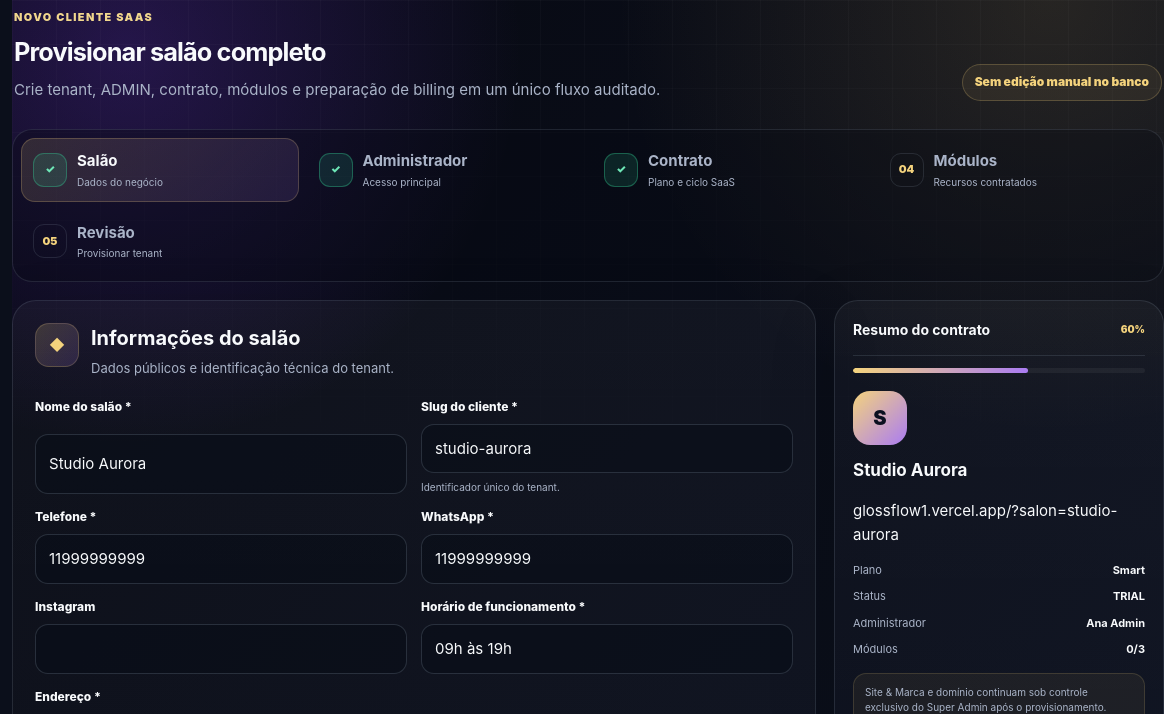
Test: SaasProvisioningWizard › exige ao menos um módulo contratado antes da revisão
The width and height of the screenshot is (1164, 714).
Click the button named "MódulosRecursos contratados" at (906, 170), box [878,138,1155,202]
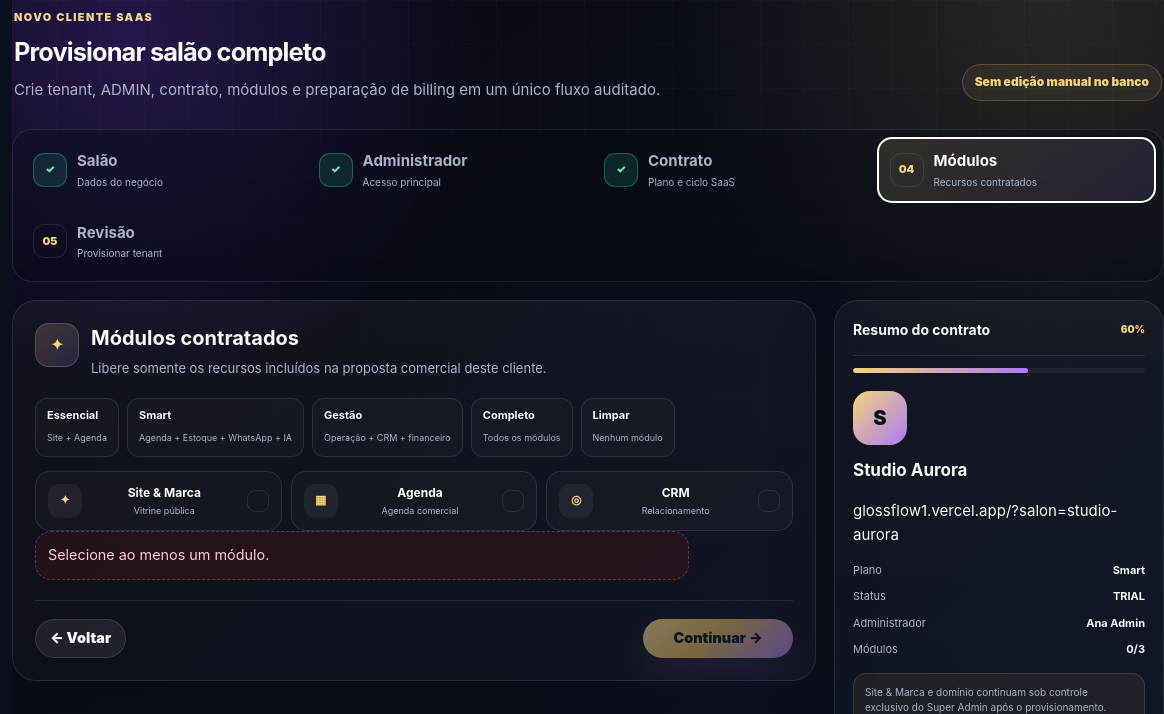
Expected: the text "Selecione ao menos um módulo." is shown, [35,531,689,580]
Expected: the button "Continuar →" is disabled, [643,619,793,658]
Click the button named "Site & MarcaVitrine pública" at (158, 501), box [35,471,282,531]
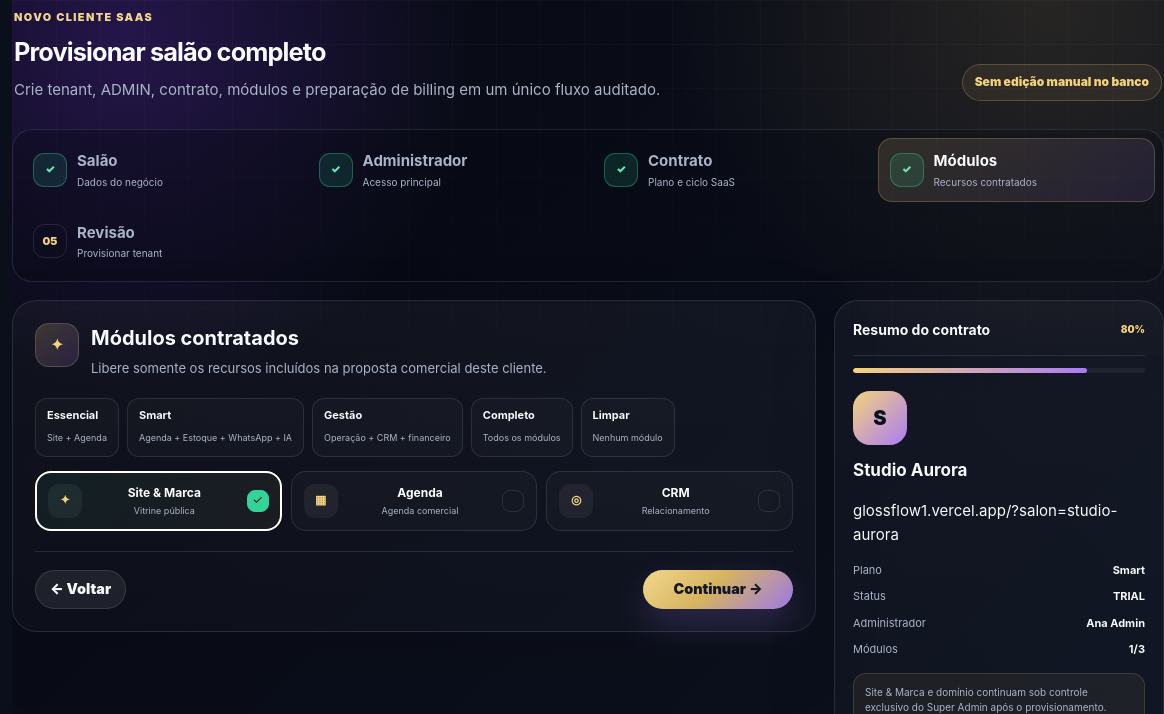
Expected: the button "Continuar →" is enabled, [643,570,793,609]
